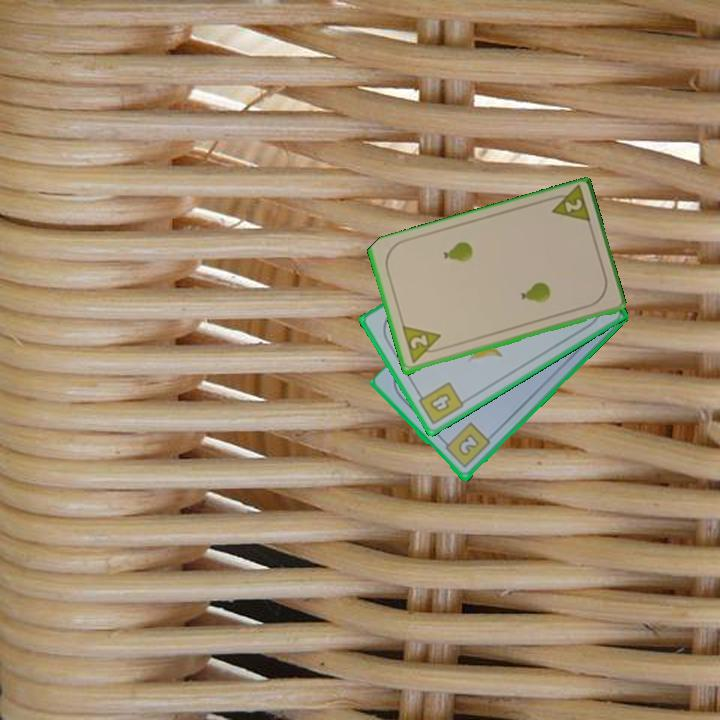2b: (439, 419, 493, 471)
2p: (544, 184, 594, 228), (399, 323, 447, 366)
4b: (413, 378, 467, 428)
